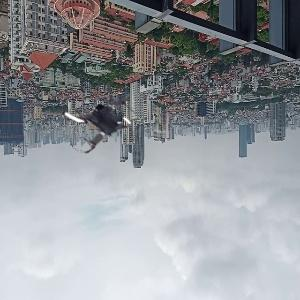drone: (54, 73, 140, 159)
